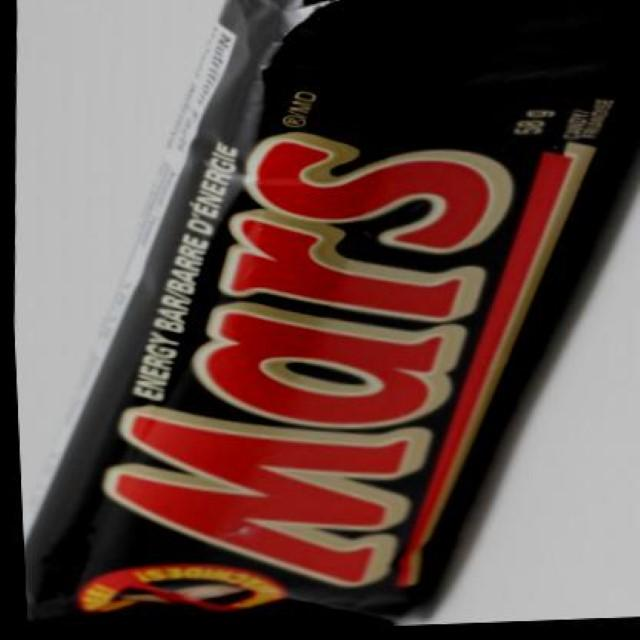mars_chocolate: (25, 60, 595, 640)
